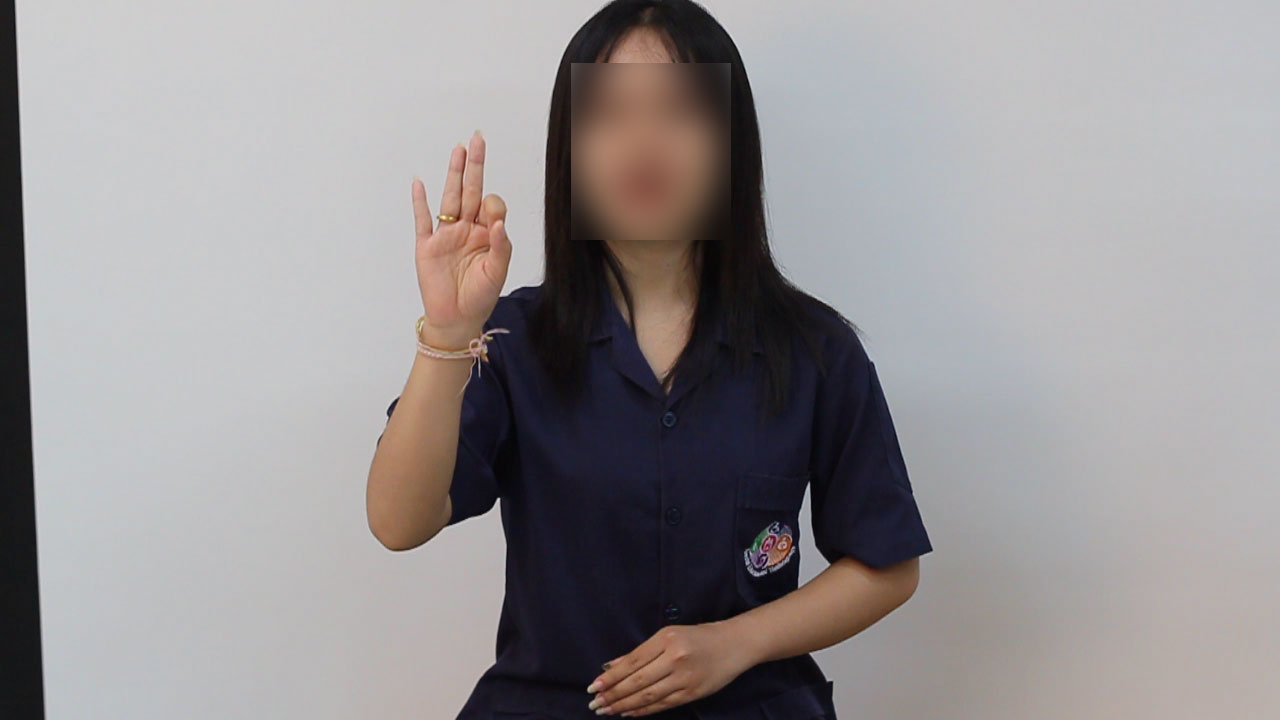for: (403, 121, 521, 331)
